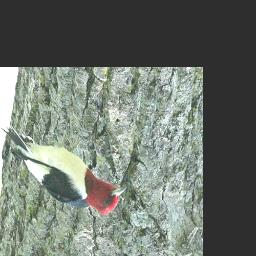Woodpecker: (0, 114, 132, 222)
